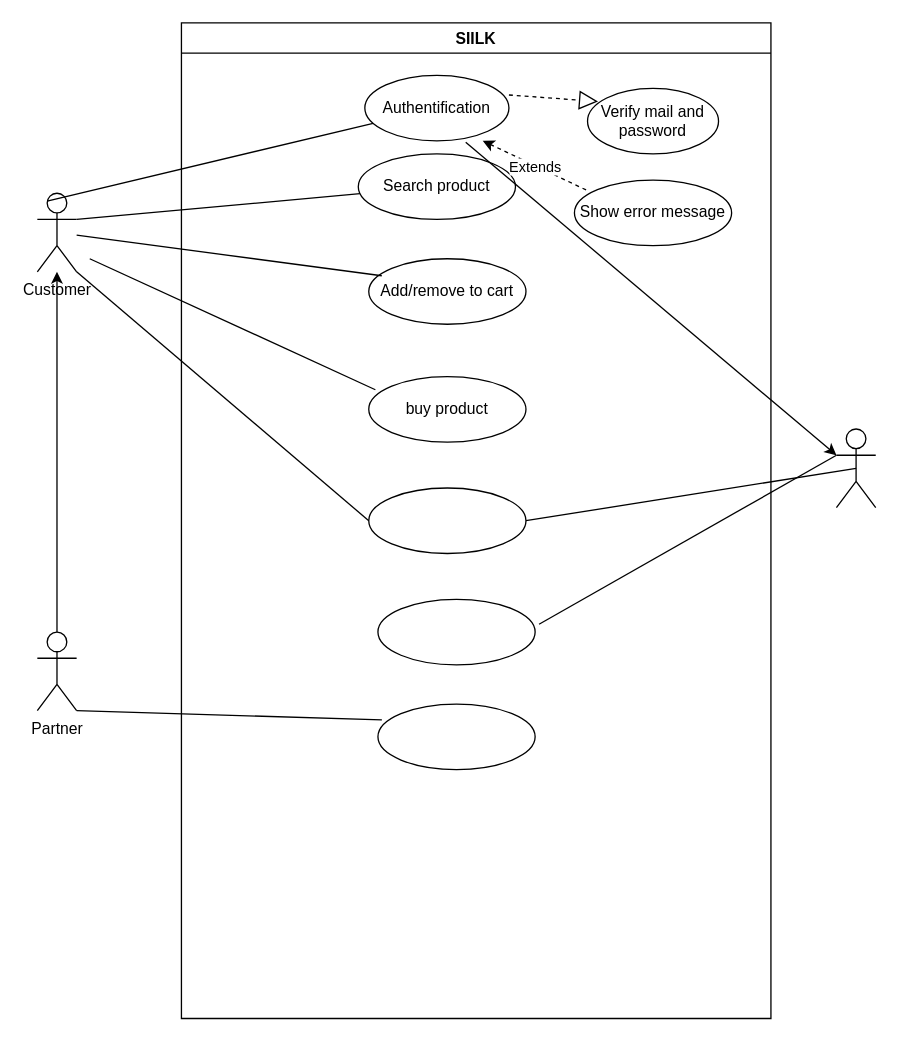
This 900x1041 diagram has some shape labels left out. The centre of each missing label's shape, as x and y in pixels:
"Add request" goes at (456,736).
"Admin" goes at (855,468).
"Manage orders" goes at (446,520).
"Manage product" goes at (456,631).
